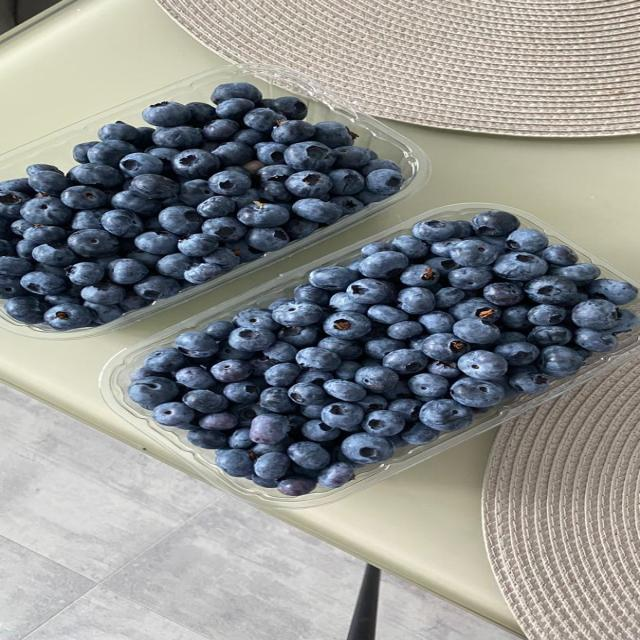blueberry: (128, 376, 178, 409), (421, 399, 473, 430), (493, 252, 548, 281), (451, 378, 504, 407), (20, 196, 73, 225), (68, 162, 124, 189), (341, 434, 393, 463), (525, 276, 577, 305), (571, 299, 619, 330), (285, 142, 336, 171), (212, 414, 254, 449), (458, 350, 508, 379), (111, 190, 162, 218), (539, 346, 583, 377), (172, 149, 219, 178), (586, 279, 638, 305), (88, 140, 137, 167), (324, 311, 371, 339), (360, 251, 408, 278), (450, 239, 497, 266), (204, 142, 254, 167), (44, 304, 92, 330), (449, 298, 501, 322), (238, 203, 290, 227), (159, 206, 202, 235), (321, 402, 364, 431), (273, 302, 324, 326), (453, 318, 500, 344), (354, 366, 399, 393), (309, 267, 359, 291), (285, 171, 331, 197), (251, 413, 289, 444), (4, 296, 46, 324), (293, 198, 340, 223), (472, 211, 519, 236), (202, 216, 247, 242), (101, 210, 144, 237), (131, 174, 179, 198), (60, 186, 108, 210), (347, 279, 395, 303), (143, 102, 191, 126), (152, 126, 202, 149), (549, 263, 601, 285), (134, 276, 181, 300), (383, 349, 428, 374), (120, 152, 164, 177), (365, 336, 404, 364), (228, 327, 275, 350), (32, 242, 77, 266), (494, 341, 539, 365), (175, 332, 218, 357), (20, 272, 66, 295), (247, 227, 289, 252), (209, 171, 251, 196), (216, 449, 253, 477), (135, 231, 178, 255), (363, 411, 404, 436), (449, 267, 493, 290), (318, 336, 362, 359), (573, 328, 617, 351), (183, 390, 227, 413), (29, 171, 71, 195), (506, 229, 548, 253), (211, 83, 261, 103), (398, 287, 435, 314), (81, 283, 126, 305), (314, 122, 352, 148), (243, 108, 284, 132), (329, 168, 365, 195), (318, 462, 354, 489), (233, 309, 279, 330), (408, 373, 448, 397), (255, 452, 290, 479), (211, 359, 252, 382), (178, 234, 219, 257), (366, 170, 403, 195), (412, 220, 454, 242), (277, 326, 319, 348), (483, 283, 523, 306), (179, 179, 213, 206), (187, 428, 230, 449), (324, 380, 365, 402), (176, 366, 215, 389), (271, 96, 308, 120), (509, 371, 549, 393), (400, 265, 439, 287), (391, 236, 428, 259), (197, 196, 235, 218), (402, 422, 440, 444), (264, 363, 300, 386), (216, 98, 255, 119), (293, 284, 330, 306), (202, 119, 239, 141), (418, 311, 455, 333), (223, 381, 260, 403), (334, 146, 369, 169), (367, 305, 409, 324), (528, 305, 566, 326), (330, 292, 368, 313), (540, 245, 578, 266), (388, 399, 422, 422), (146, 147, 178, 171), (23, 226, 68, 243), (257, 163, 295, 183), (184, 264, 222, 284), (185, 102, 216, 126), (277, 477, 316, 496), (255, 142, 287, 165), (330, 196, 365, 217), (263, 341, 296, 363), (219, 341, 255, 361), (501, 305, 531, 329), (609, 309, 638, 333), (259, 182, 292, 203), (387, 321, 423, 340), (424, 257, 459, 276), (127, 250, 162, 269), (361, 159, 401, 175), (435, 287, 464, 309), (0, 178, 35, 196), (118, 293, 151, 312), (204, 320, 235, 340), (232, 129, 268, 146), (427, 360, 459, 379), (231, 188, 259, 209), (0, 276, 25, 299), (431, 238, 461, 257), (357, 395, 388, 413), (73, 141, 98, 163), (5, 219, 32, 239), (252, 439, 287, 454), (361, 242, 395, 257), (334, 361, 360, 380), (33, 264, 66, 278), (16, 239, 37, 260), (26, 164, 62, 176), (136, 126, 154, 149), (130, 367, 157, 382), (496, 331, 526, 344), (251, 474, 278, 488), (301, 404, 324, 419), (0, 239, 15, 255), (230, 333, 233, 343)
